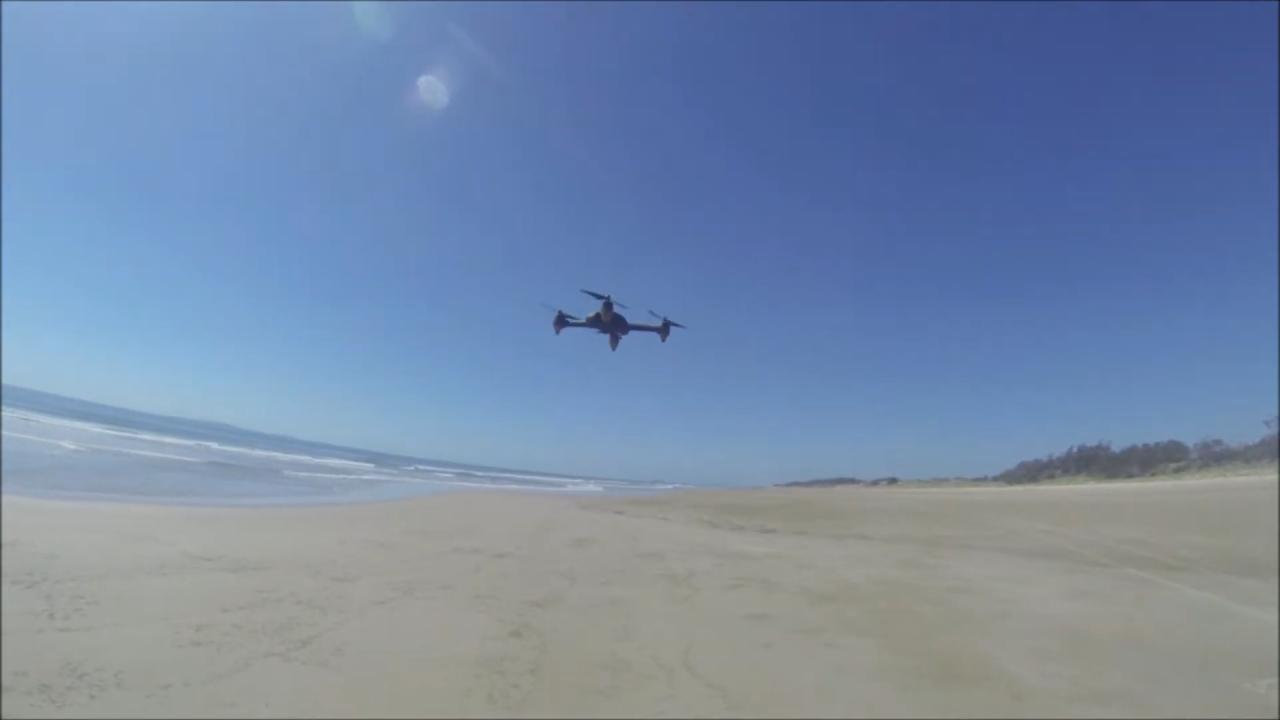Drone: (520, 275, 698, 369)
